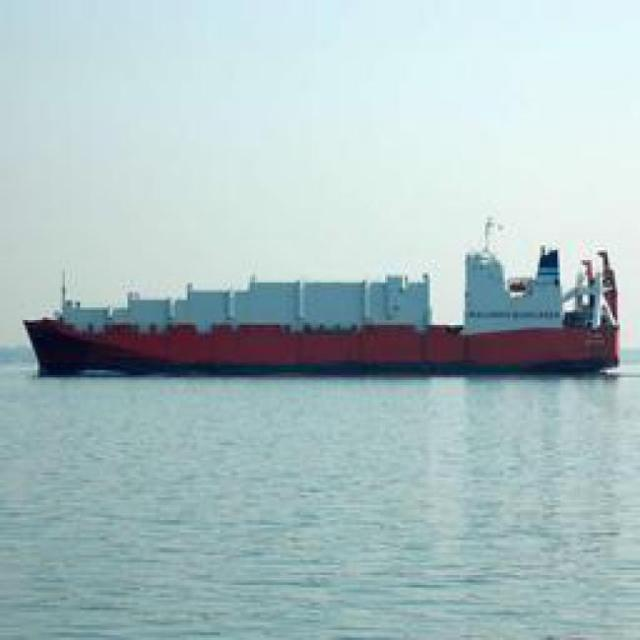boat: (22, 275, 626, 382)
